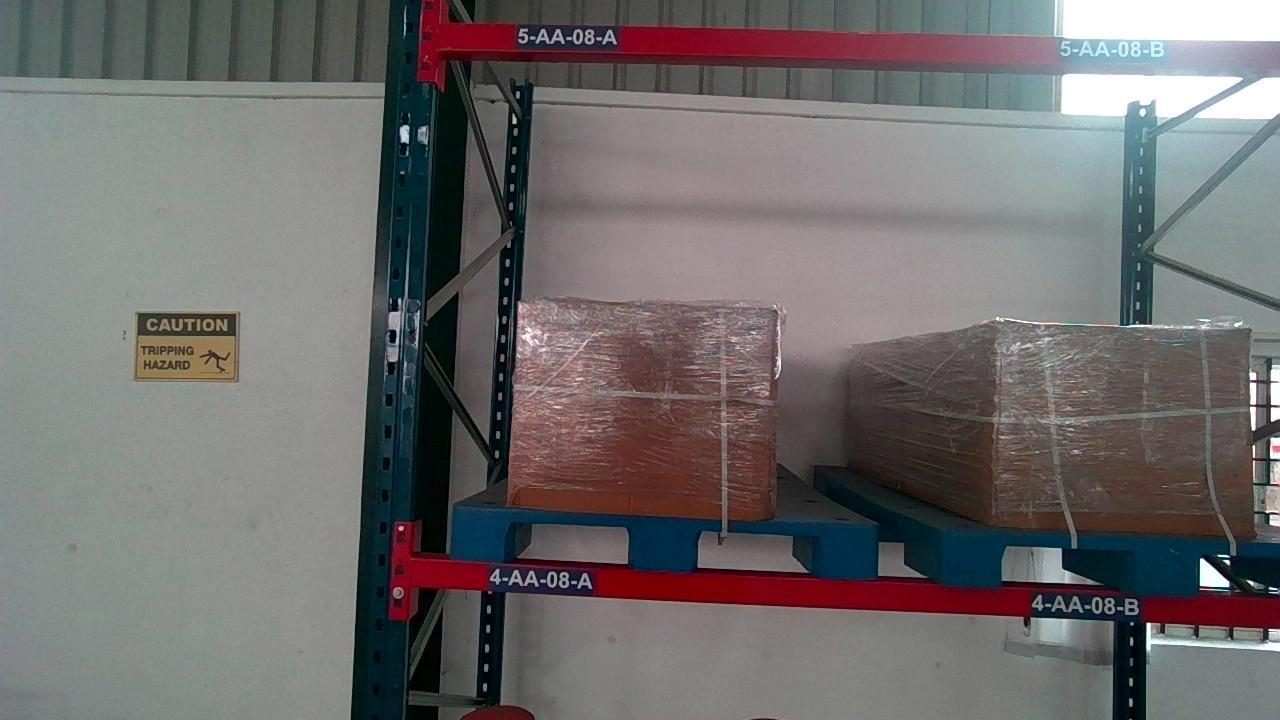h_rack: (417, 558, 1280, 629), (442, 24, 1280, 73)
small_pallet: (445, 513, 882, 571), (957, 534, 1277, 591)
